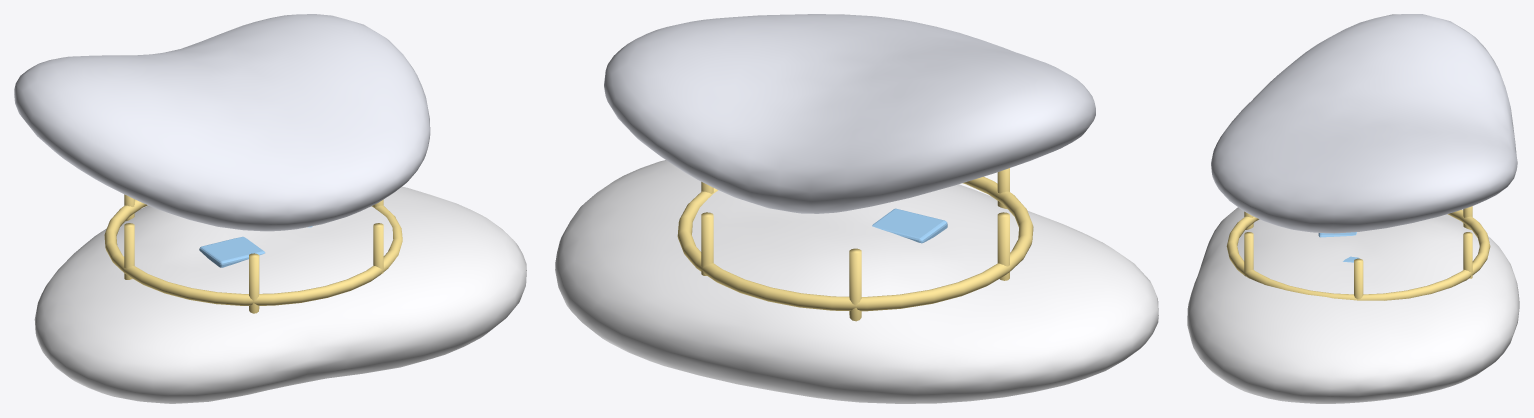
Rendered from cloud_lift.glb.
3 views of the same model, side by side, from view 1: azimuth 30°, elevation 25°; view 2: azimuth 150°, elevation 25°; view 3: azimuth 270°, elevation 25° (orthographic). The views are drawn at different scales.
Parts seen in each view (by area): view 1: cloud_lift; view 2: cloud_lift; view 3: cloud_lift.
Part boxes in pixels (x1=…): cloud_lift: x1=14, y1=14, x2=526, y2=403; cloud_lift: x1=555, y1=14, x2=1158, y2=403; cloud_lift: x1=1187, y1=14, x2=1519, y2=403.
Size of the model in its own units: 6.95 by 4.15 by 4.99.
